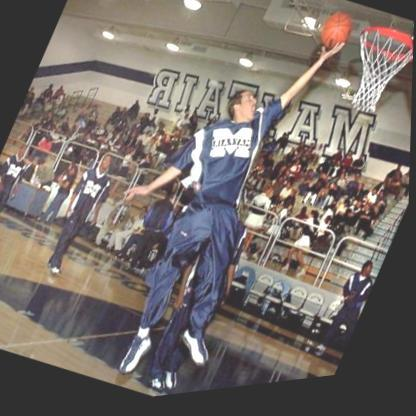basketball: (314, 14, 358, 64)
